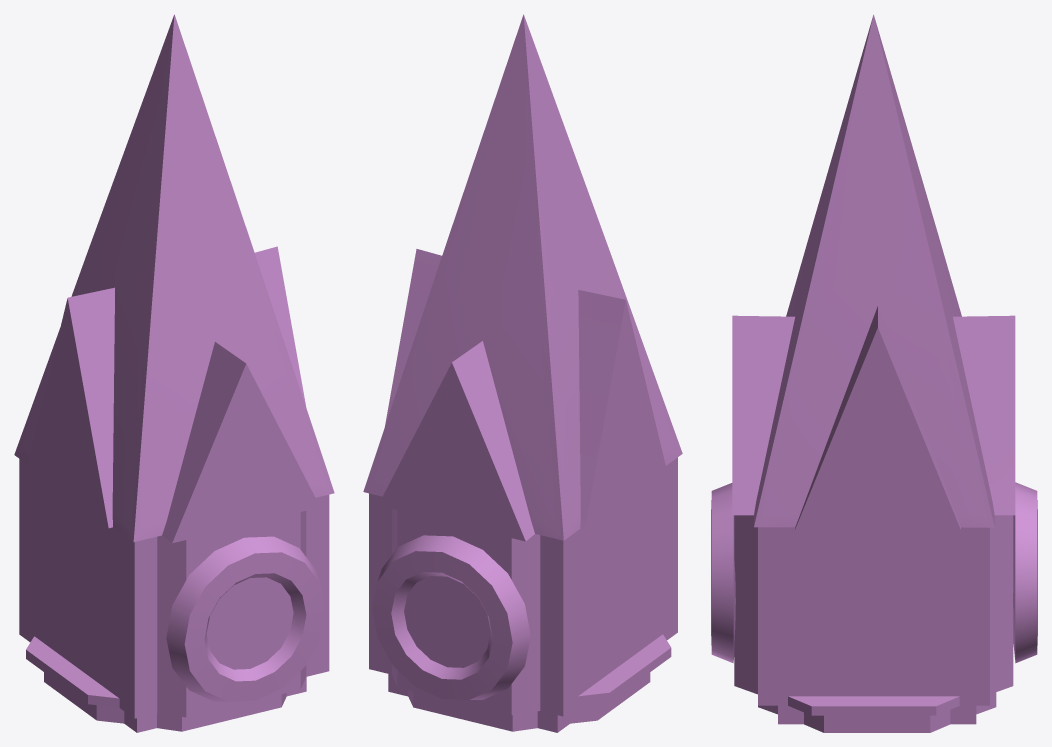
The model's file is Tower_Top_B.fbx.
The picture shows the model from 3 angles, left to right: view 1: azimuth 30°, elevation 25°; view 2: azimuth 150°, elevation 25°; view 3: azimuth 270°, elevation 25°; orthographic projection.
Visible parts, largest first — view 1: Tower_Top_B; view 2: Tower_Top_B; view 3: Tower_Top_B.
Part boxes in pixels (box(x1,y1,x2,y2)): Tower_Top_B: box(14, 14, 334, 732); Tower_Top_B: box(363, 14, 682, 732); Tower_Top_B: box(711, 14, 1037, 732).
Size of the model in its own units: 653 by 1763 by 781.
